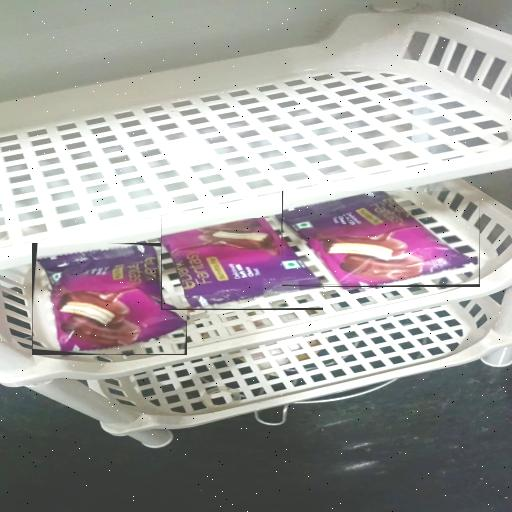Choco Pie: (282, 192, 480, 288), (32, 243, 187, 355), (162, 218, 324, 310)
